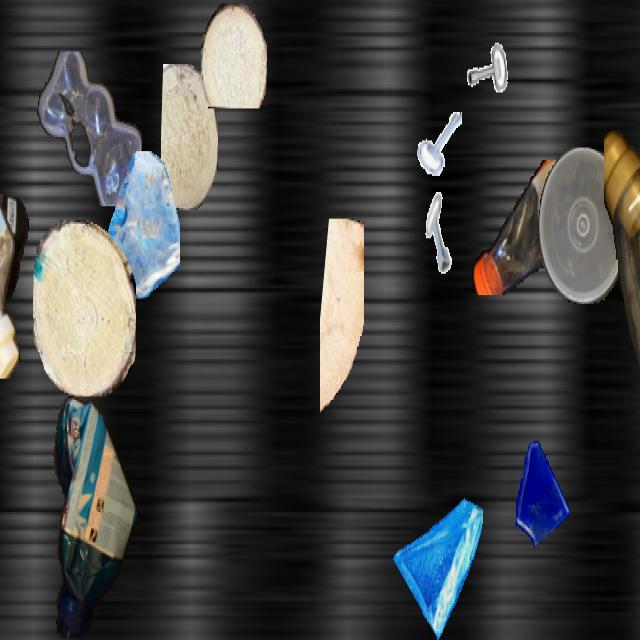glass: (392, 478, 482, 638), (97, 151, 179, 297), (510, 436, 572, 546)
metal: (455, 4, 511, 103), (418, 192, 464, 274), (417, 105, 461, 183)
plastic: (48, 393, 136, 638), (470, 160, 616, 295), (37, 52, 143, 205), (539, 148, 627, 304), (604, 117, 640, 491), (0, 197, 29, 439), (0, 71, 22, 377)
wood: (33, 220, 135, 394), (320, 219, 364, 425), (161, 64, 217, 210), (201, 3, 267, 106)
